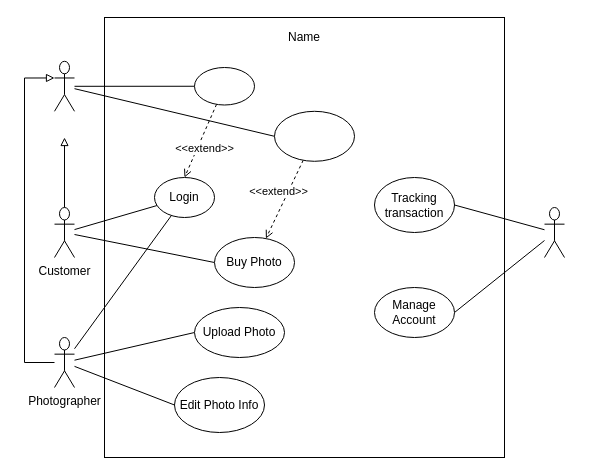
Image size: 592x475. Some labels were removed from this diagram. The centre of each missing label's shape, as x and y in pixels:
Register: pixel 224 85
System: pixel 554 232
Unauthorized: pixel 64 85
View Photograph: pixel 314 135
